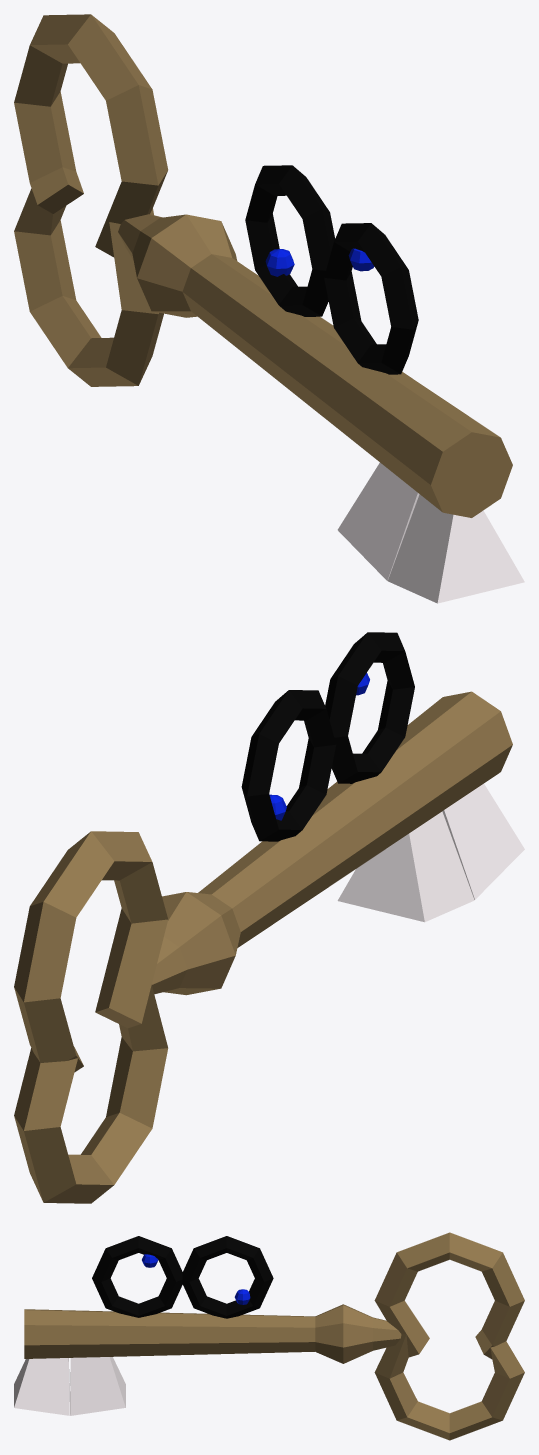
The model's file is llave.fbx.
3 renders of one model, top to bottom at view 1: azimuth 30°, elevation 25°; view 2: azimuth 150°, elevation 25°; view 3: azimuth 270°, elevation 25°, orthographic. The views are drawn at different scales.
Parts seen in each view (by area): view 1: Cylinder, Torus, Torus.001, Cube, Torus.002, Torus.003, Cube.001; view 2: Cylinder, Torus, Torus.001, Cube.001, Torus.003, Torus.002, Cube; view 3: Cylinder, Torus, Torus.001, Torus.002, Torus.003, Cube.001, Cube.
Part boxes in pixels (x1,y1,x2,y2): Cylinder: (118,214,512,517); Torus: (14,14,168,257); Torus.001: (14,188,163,386); Cube: (388,494,524,603); Torus.002: (324,223,418,374); Torus.003: (245,165,335,316); Cube.001: (337,462,419,580); Cylinder: (152,691,512,995); Torus: (14,831,168,1072); Torus.001: (14,985,168,1203); Cube.001: (337,811,474,922); Torus.003: (241,690,336,841); Torus.002: (325,632,414,783); Cube: (442,783,524,899); Cylinder: (24,1304,401,1363); Torus: (374,1232,524,1359); Torus.001: (374,1334,524,1440); Torus.002: (92,1236,182,1317); Torus.003: (182,1236,273,1318); Cube.001: (70,1357,125,1415); Cube: (14,1358,69,1415).
Bounding box in the file's own units: 53.11 × 191 × 426.
